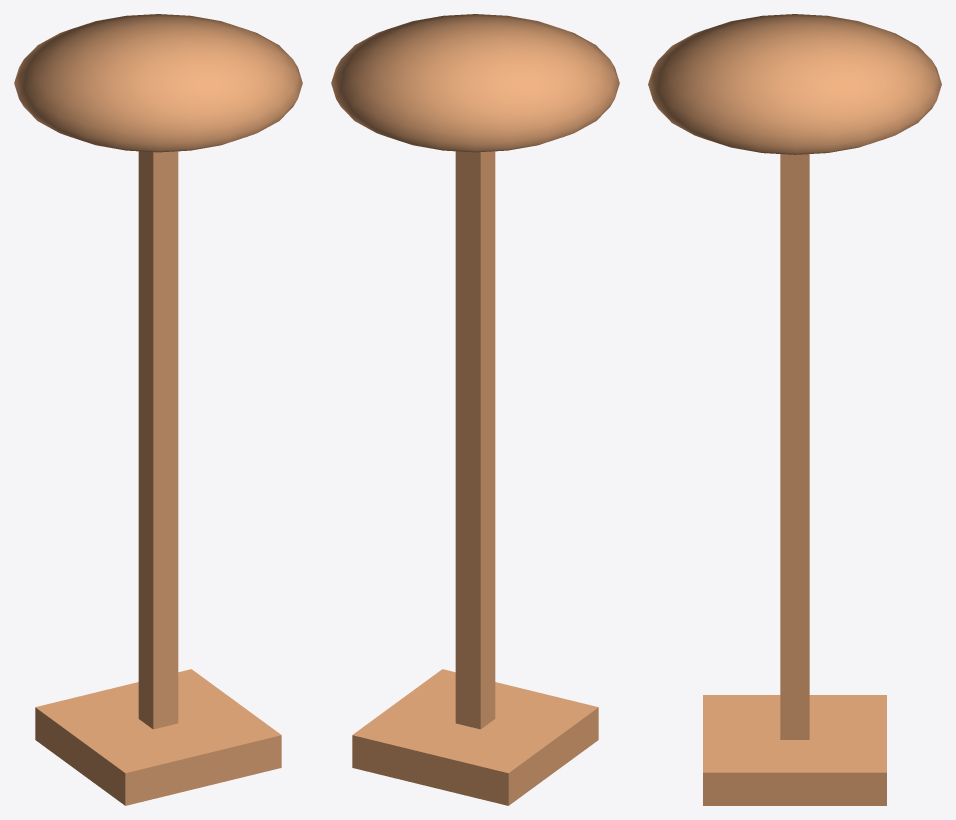
Rendered from relay.glb.
3 renders of one model, left to right at view 1: azimuth 30°, elevation 25°; view 2: azimuth 150°, elevation 25°; view 3: azimuth 270°, elevation 25°, orthographic.
Parts seen in each view (by area): view 1: Relay; view 2: Relay; view 3: Relay.
Part boxes in pixels (x1,y1,x2,y2): Relay: (14, 14, 302, 805); Relay: (331, 14, 619, 805); Relay: (648, 14, 941, 805).
Bounding box in the file's own units: 8 × 21.5 × 8.
